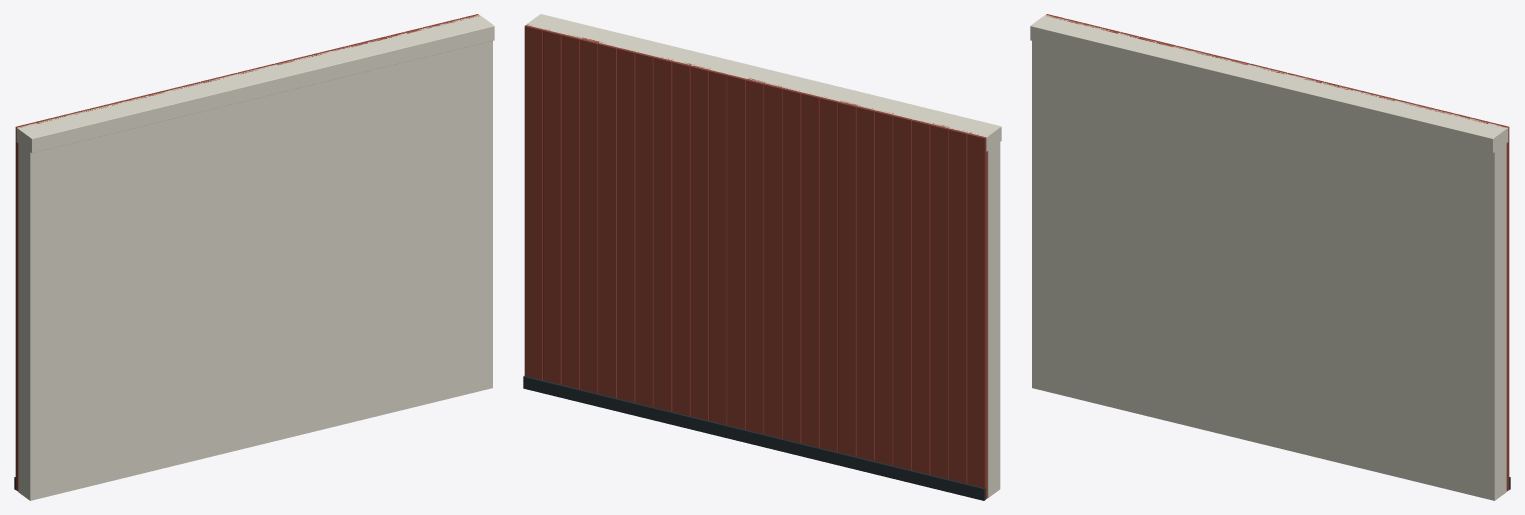
The model's file is workshop_wall_4m.glb.
The picture shows the model from 3 angles, left to right: view 1: azimuth 30°, elevation 25°; view 2: azimuth 150°, elevation 25°; view 3: azimuth 330°, elevation 25°; orthographic projection.
Visible parts, largest first — view 1: Structure; view 2: Structure; view 3: Structure.
Part boxes in pixels (<box>): Structure: <box>14,14,494,500</box>; Structure: <box>523,14,1001,500</box>; Structure: <box>1030,14,1510,500</box>.
Size of the model in its own units: 4 by 3 by 0.2655.
